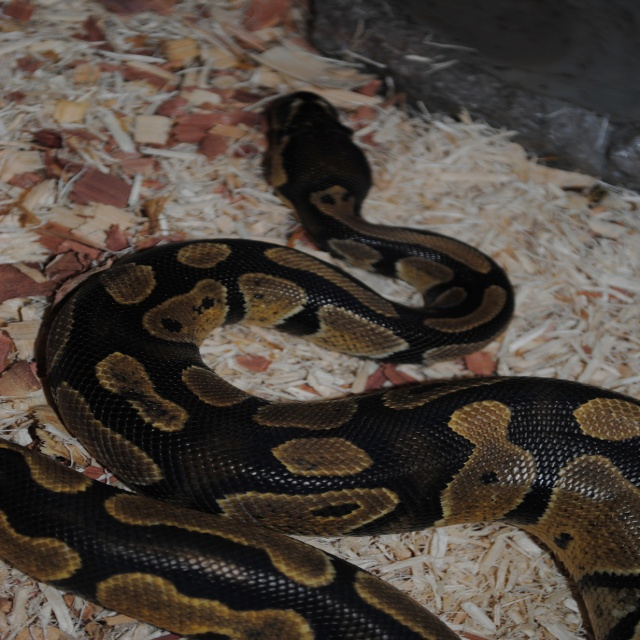Snake: (0, 91, 640, 640)
